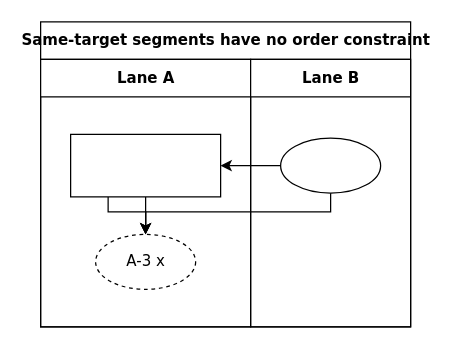
The diagram is 451 pixels wide and 349 high, and some of its shapes have lost their labels. The centre of each missing label's shape, as x and y in pixels:
A-2 x: (x=145, y=165)
B-1 x: (x=330, y=165)
